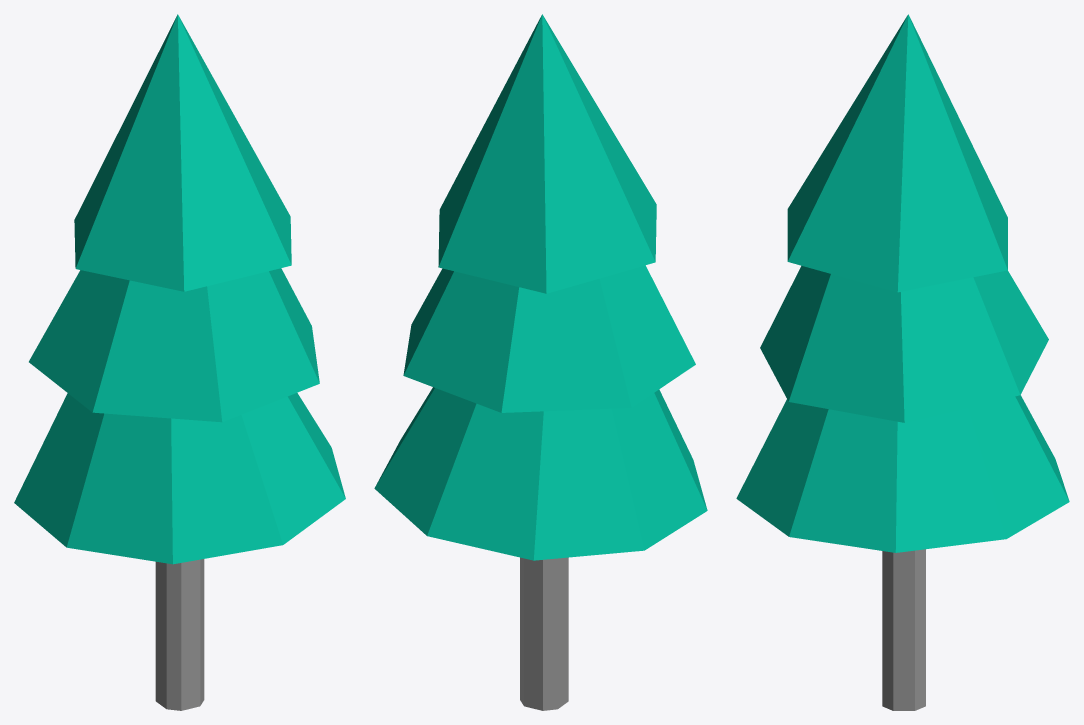
Rendered from tree_lowpoly_01.fbx.
The picture shows the model from 3 angles, left to right: view 1: azimuth 30°, elevation 25°; view 2: azimuth 150°, elevation 25°; view 3: azimuth 270°, elevation 25°; orthographic projection.
Visible parts, largest first — view 1: PineTree01; view 2: PineTree01; view 3: PineTree01.
Part boxes in pixels (x1,y1,x2,y2): PineTree01: [14, 14, 345, 710]; PineTree01: [374, 14, 707, 710]; PineTree01: [736, 14, 1069, 710].
Bounding box in the file's own units: 27.95 × 64.11 × 28.17.
